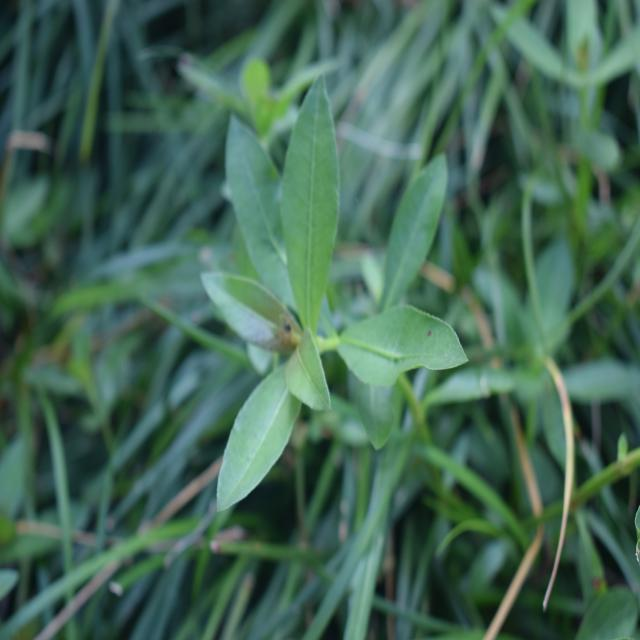Alligatorweed: (193, 100, 446, 499)
